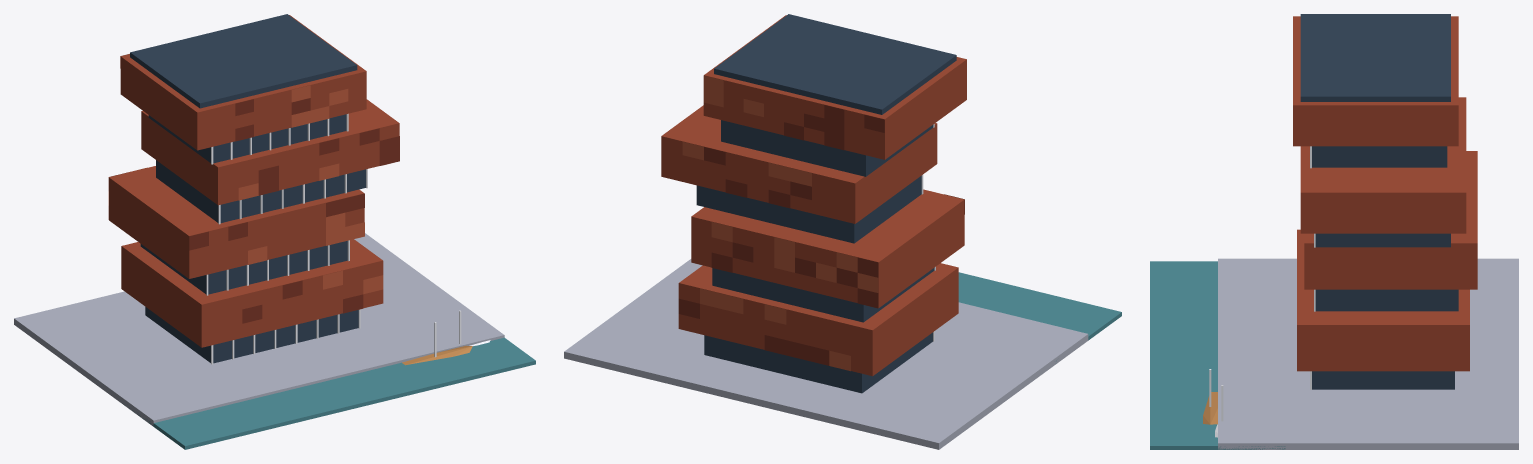
The model's file is mas-museum-3x3.glb.
The picture shows the model from 3 angles, left to right: view 1: azimuth 30°, elevation 25°; view 2: azimuth 150°, elevation 25°; view 3: azimuth 270°, elevation 25°; orthographic projection. The views are drawn at different scales.
Visible parts, largest first — view 1: mas-museum-3x3; view 2: mas-museum-3x3; view 3: mas-museum-3x3.
Part boxes in pixels (box(x1,y1,x2,y2)): mas-museum-3x3: box(14, 14, 535, 449); mas-museum-3x3: box(564, 14, 1121, 449); mas-museum-3x3: box(1150, 14, 1518, 449).
Size of the model in its own units: 2.9 by 2.17 by 2.45.
Materials: 1 (1 with a texture image).
